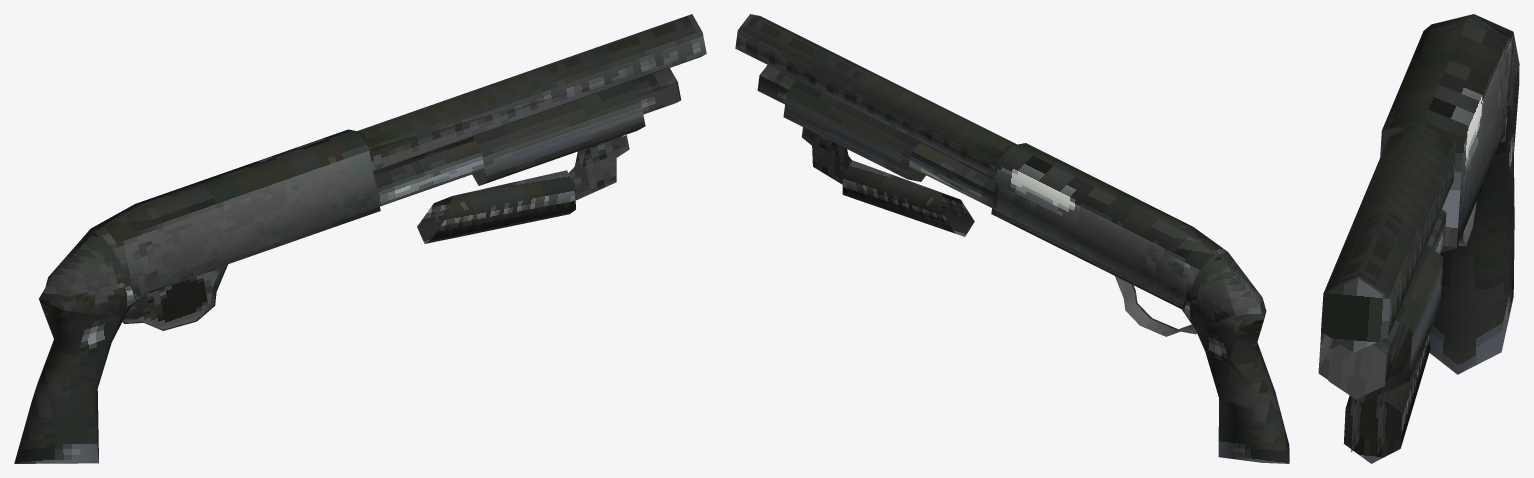
File: BuddyShot.fbx
3 renders of one model, left to right at view 1: azimuth 30°, elevation 25°; view 2: azimuth 150°, elevation 25°; view 3: azimuth 270°, elevation 25°, orthographic. The views are drawn at different scales.
Visible parts, largest first — view 1: buddyshot; view 2: buddyshot; view 3: buddyshot.
Part boxes in pixels (<box>): buddyshot: <box>14,14,706,463</box>; buddyshot: <box>735,14,1289,463</box>; buddyshot: <box>1318,14,1519,463</box>.
Bounding box in the file's own units: 55.01 × 27.16 × 9.26.
Materials: 1 (1 with a texture image).
